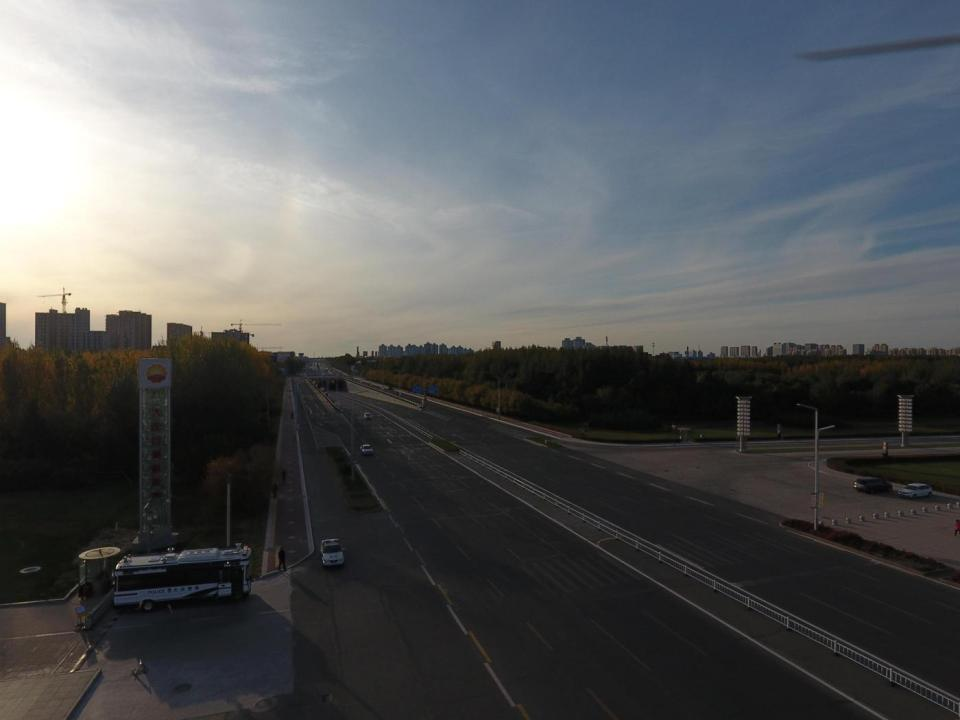bus: (103, 542, 252, 612)
car: (853, 475, 894, 495), (320, 538, 346, 566), (897, 482, 933, 500), (358, 444, 374, 456), (364, 413, 373, 421)
